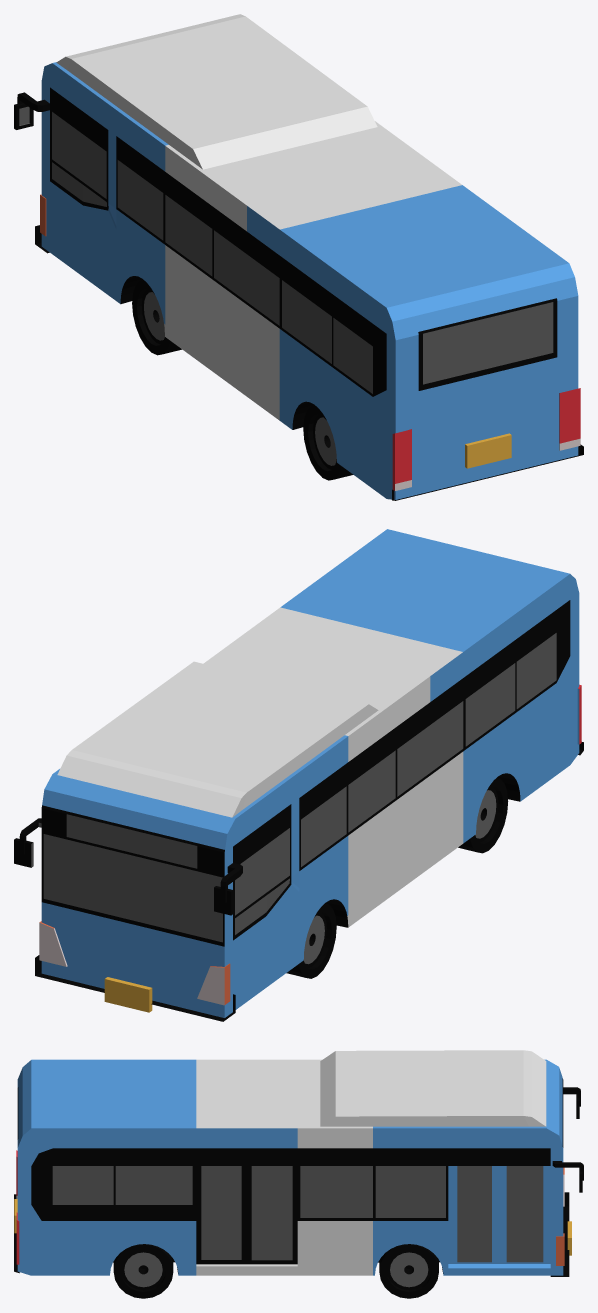
File: bus (1).fbx
The picture shows the model from 3 angles, top to bottom: view 1: azimuth 30°, elevation 25°; view 2: azimuth 150°, elevation 25°; view 3: azimuth 270°, elevation 25°; orthographic projection. The views are drawn at different scales.
Visible parts, largest first — view 1: 큐브, 큐브.001, 실린더; view 2: 큐브, 큐브.001, 실린더; view 3: 큐브, 큐브.001, 실린더.
Part boxes in pixels (<box>): 큐브: <box>14,62,583,500</box>; 큐브.001: <box>56,14,377,169</box>; 실린더: <box>132,280,353,480</box>; 큐브: <box>14,529,583,1021</box>; 큐브.001: <box>57,661,378,817</box>; 실린더: <box>286,778,508,978</box>; 큐브: <box>14,1059,583,1276</box>; 큐브.001: <box>320,1050,546,1126</box>; 실린더: <box>113,1244,438,1298</box>.
Size of the model in its own units: 465 by 496 by 1387.
